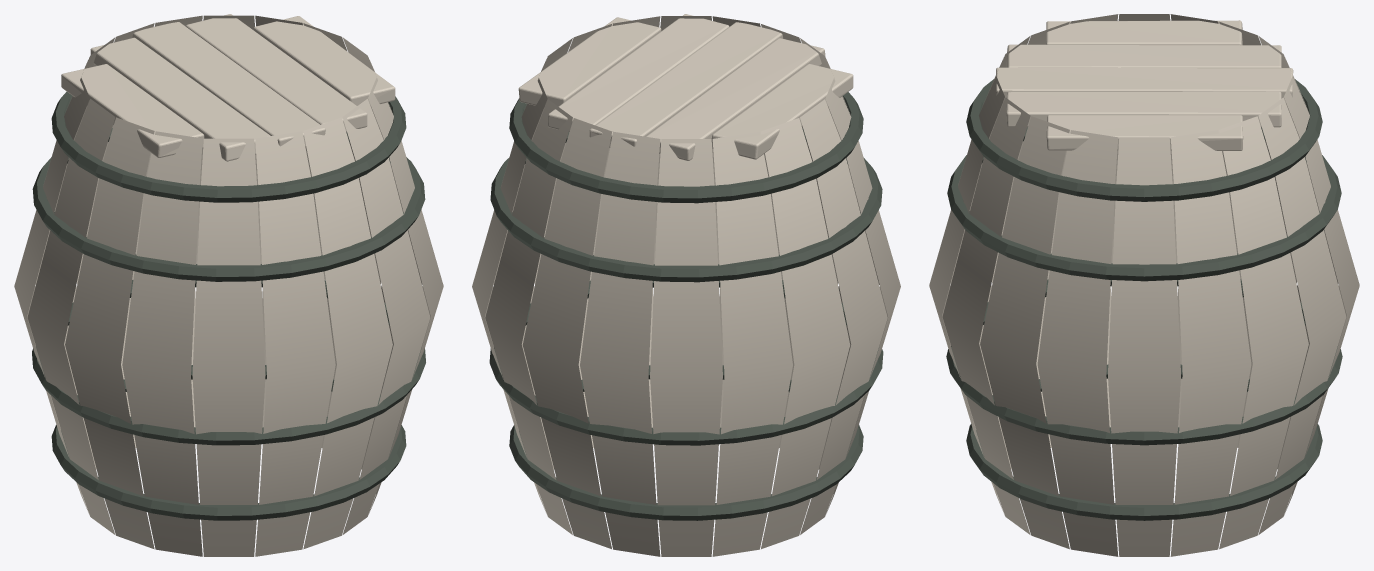
The model's file is SM_WLA_Barrel_B.fbx.
The picture shows the model from 3 angles, left to right: view 1: azimuth 30°, elevation 25°; view 2: azimuth 150°, elevation 25°; view 3: azimuth 270°, elevation 25°; orthographic projection.
Visible parts, largest first — view 1: SM_WLA_Barrel_B; view 2: SM_WLA_Barrel_B; view 3: SM_WLA_Barrel_B.
Part boxes in pixels (x1,y1,x2,y2): SM_WLA_Barrel_B: [14, 14, 443, 556]; SM_WLA_Barrel_B: [472, 14, 900, 556]; SM_WLA_Barrel_B: [929, 14, 1359, 556].
Size of what is drawn, in the model's own units: 0.93 by 0.9164 by 1.
